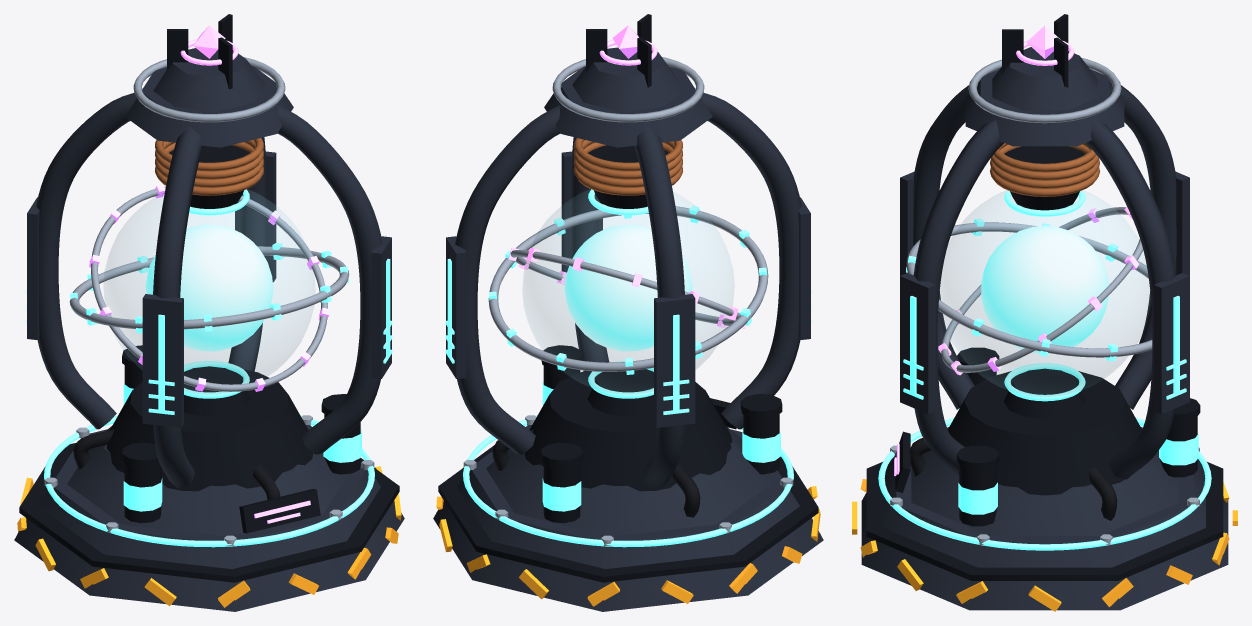
File: genesis_core_v2.glb
3 views of the same model, side by side, from view 1: azimuth 30°, elevation 25°; view 2: azimuth 150°, elevation 25°; view 3: azimuth 270°, elevation 25° (orthographic).
Parts seen in each view (by area): view 1: cage_ribs, base_plates, containment_glass, base_dark, crown_collar, energy_core, ring_outer_band, power_cells, ring_inner_band, core_clamps, copper_coils, glow_base_ring (+12 smaller); view 2: cage_ribs, base_plates, containment_glass, base_dark, crown_collar, energy_core, ring_outer_band, power_cells, core_clamps, copper_coils, glow_base_ring, base_hazard (+11 smaller); view 3: cage_ribs, base_plates, containment_glass, base_dark, energy_core, crown_collar, core_clamps, power_cells, copper_coils, ring_outer_band, glow_base_ring, base_hazard (+11 smaller).
Boxes of the visible parts, left/top/right/bottom form: cage_ribs: left=27, top=93, right=391, bottom=488; base_plates: left=14, top=425, right=404, bottom=611; containment_glass: left=104, top=189, right=314, bottom=393; base_dark: left=19, top=369, right=399, bottom=582; crown_collar: left=125, top=48, right=293, bottom=147; energy_core: left=145, top=224, right=273, bottom=351; ring_outer_band: left=69, top=246, right=349, bottom=329; power_cells: left=122, top=345, right=360, bottom=523; ring_inner_band: left=91, top=186, right=327, bottom=391; core_clamps: left=169, top=145, right=250, bottom=416; copper_coils: left=155, top=138, right=263, bottom=195; glow_base_ring: left=44, top=415, right=374, bottom=547; cage_ribs: left=446, top=93, right=810, bottom=488; base_plates: left=433, top=425, right=823, bottom=611; containment_glass: left=523, top=189, right=733, bottom=393; base_dark: left=438, top=370, right=818, bottom=582; crown_collar: left=544, top=47, right=712, bottom=147; energy_core: left=564, top=224, right=692, bottom=351; ring_outer_band: left=488, top=206, right=768, bottom=371; power_cells: left=541, top=345, right=782, bottom=523; core_clamps: left=587, top=145, right=668, bottom=416; copper_coils: left=574, top=138, right=682, bottom=195; glow_base_ring: left=463, top=415, right=793, bottom=547; base_hazard: left=436, top=467, right=820, bottom=606; cage_ribs: left=900, top=85, right=1189, bottom=479; base_plates: left=861, top=427, right=1228, bottom=610; containment_glass: left=939, top=191, right=1150, bottom=396; base_dark: left=866, top=371, right=1223, bottom=580; energy_core: left=981, top=226, right=1108, bottom=353; crown_collar: left=965, top=47, right=1124, bottom=146; core_clamps: left=1003, top=146, right=1086, bottom=418; power_cells: left=956, top=347, right=1200, bottom=526; copper_coils: left=990, top=143, right=1099, bottom=196; ring_outer_band: left=906, top=222, right=1152, bottom=357; glow_base_ring: left=878, top=418, right=1211, bottom=550; base_hazard: left=852, top=479, right=1237, bottom=611.
Bounding box in the file's own units: 0.72 × 1.04 × 0.72.
